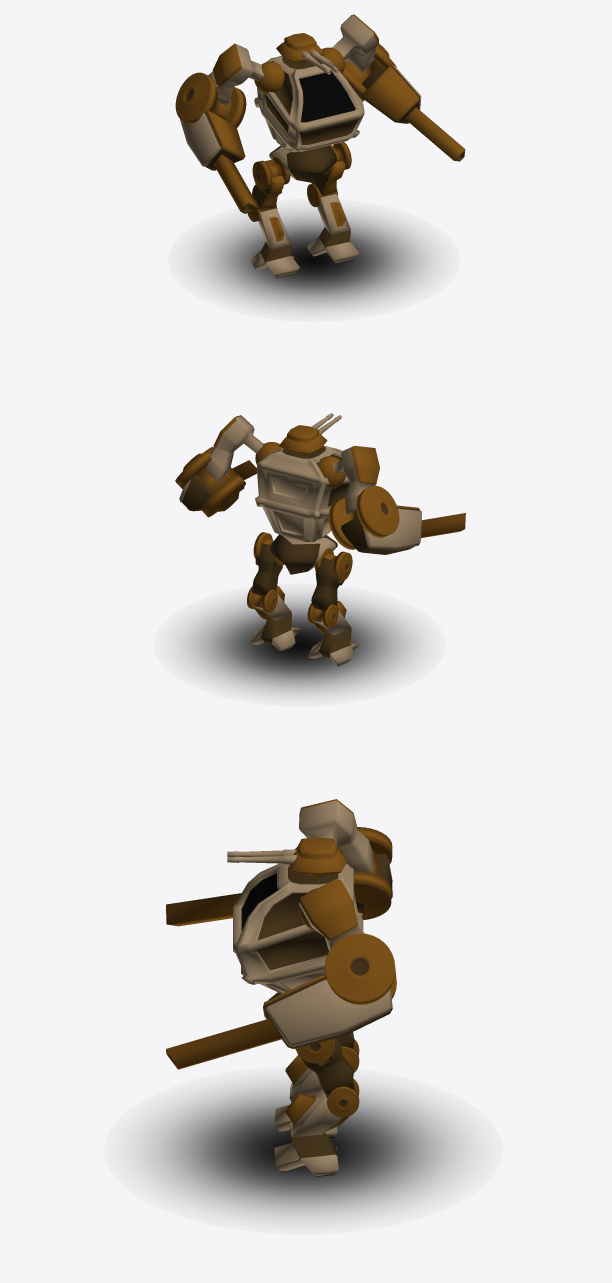
3 views of the same model, one above another, from view 1: azimuth 30°, elevation 25°; view 2: azimuth 150°, elevation 25°; view 3: azimuth 270°, elevation 25° (orthographic). The views are drawn at different scales.
Visible parts, largest first — view 1: shadow, Cube.001, Cube, Cube.003, Cylinder.006, Cube.002, Cylinder.005, Cube.004, Cylinder.003, Sphere.001; view 2: shadow, Cube.001, Cube, Cube.003, Cylinder.006, Cylinder.005, Cube.002, Cube.004, Cylinder.003, Sphere.001, Cylinder.001, Cylinder.002; view 3: shadow, Cube.001, Cube, Cube.003, Cylinder.005, Cylinder.006, Cube.004, Cylinder, Cylinder.001, Cylinder.004.
Part boxes in pixels (x1,y1,x2,y2): shadow: (199, 212, 428, 308); Cube.001: (179, 14, 465, 213); Cube: (254, 55, 364, 152); Cube.003: (250, 145, 359, 278); Cylinder.006: (175, 72, 246, 127); Cube.002: (269, 145, 336, 182); Cylinder.005: (342, 43, 396, 101); Cube.004: (276, 33, 324, 62); Cylinder.003: (252, 157, 290, 189); Sphere.001: (254, 61, 284, 93); shadow: (185, 596, 414, 693); Cube.001: (179, 415, 465, 554); Cube: (255, 445, 349, 542); Cube.003: (251, 543, 359, 665); Cylinder.006: (328, 485, 399, 549); Cylinder.005: (175, 447, 245, 517); Cube.002: (270, 534, 337, 574); Cube.004: (279, 425, 327, 454); Cylinder.003: (314, 548, 352, 580); Sphere.001: (318, 456, 345, 488); Cylinder.001: (247, 587, 277, 612); Cylinder.002: (307, 603, 338, 627); shadow: (146, 1084, 460, 1216); Cube.001: (166, 799, 392, 1069); Cube: (233, 863, 363, 993); Cube.003: (274, 1032, 354, 1176); Cylinder.005: (324, 933, 396, 1005); Cylinder.006: (353, 827, 392, 919); Cube.004: (290, 837, 346, 877); Cylinder: (227, 849, 296, 864); Cylinder.001: (327, 1079, 359, 1117); Cylinder.004: (296, 1039, 334, 1063).
Size of the model in its own units: 11.67 by 6.81 by 11.67.
Materials: 5 (1 with a texture image).
